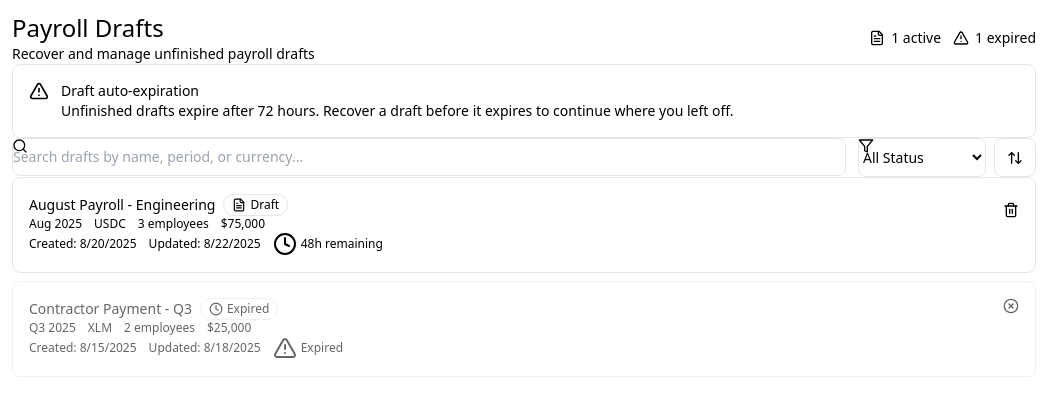
Test case: PayrollDraftRecovery › filters drafts by status
Select "Expired" in the dropdown showing "All Status": (922,158) x1=858 y1=138 x2=986 y2=177
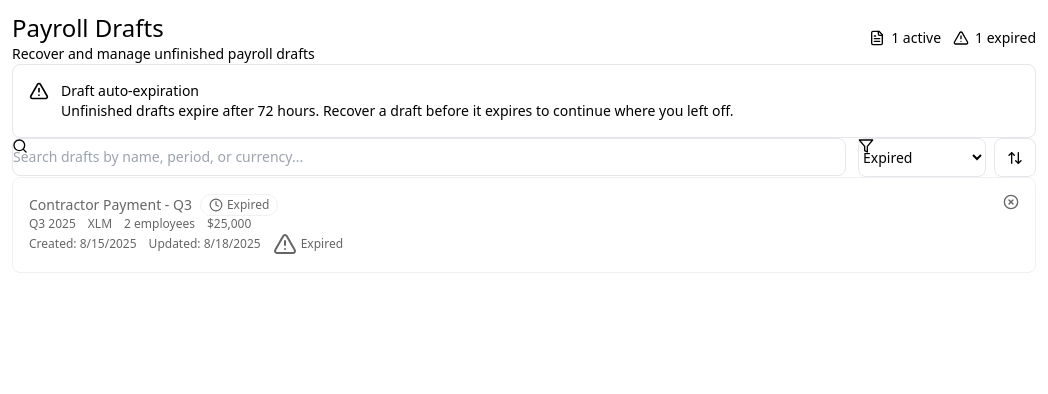
Expected: the text "Contractor Payment - Q3" is shown, x1=29 y1=195 x2=192 y2=215
Expected: the text "August Payroll - Engineering" is gone
